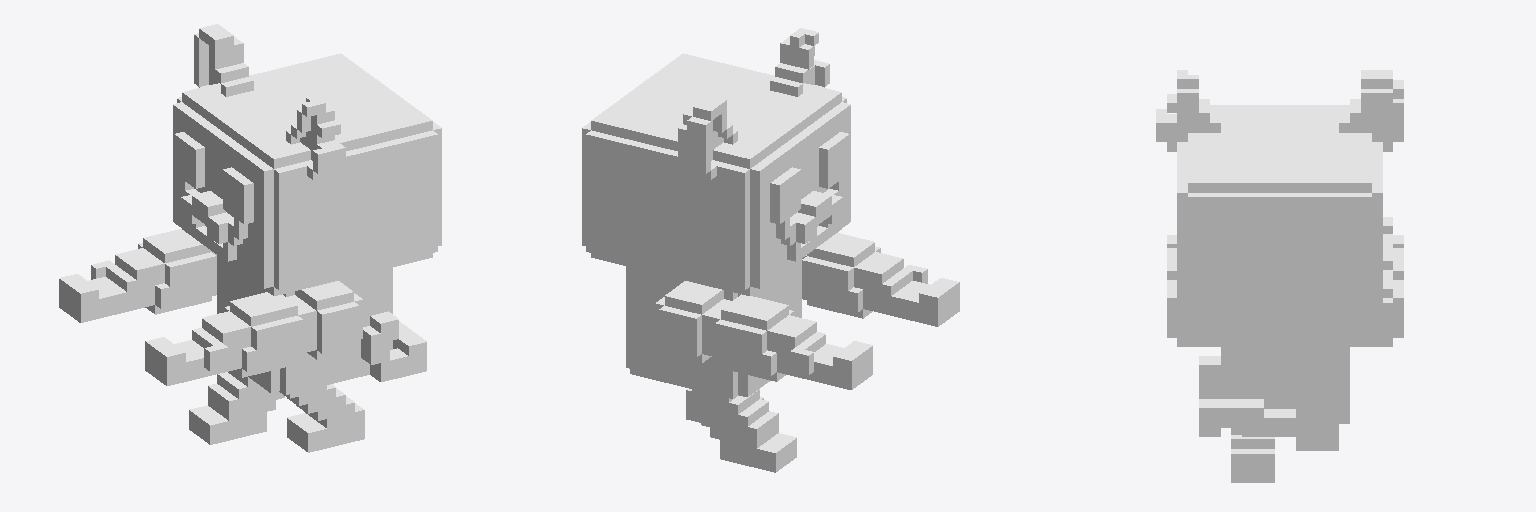
File: muscle_cat.obj
3 views of the same model, side by side, from view 1: azimuth 30°, elevation 25°; view 2: azimuth 150°, elevation 25°; view 3: azimuth 270°, elevation 25° (orthographic).
Visible parts, largest first — view 1: object 1; view 2: object 1; view 3: object 1.
Part boxes in pixels (x1,y1,x2,y2): object 1: (59, 24, 441, 452); object 1: (582, 28, 959, 472); object 1: (1156, 70, 1403, 482).
Size of the model in its own units: 3 by 3.8 by 2.3.